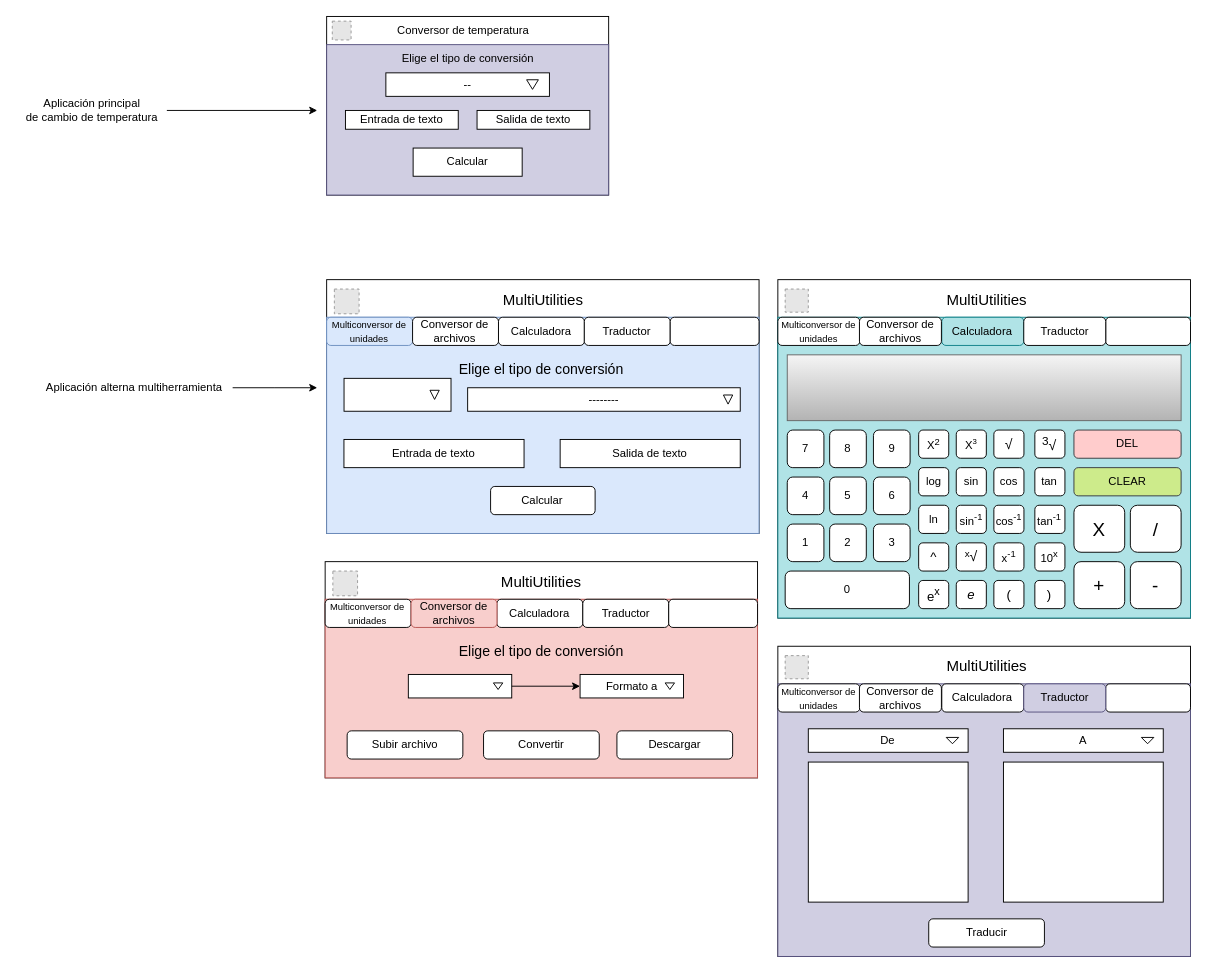
Some shapes in this 1207 by 973 pixel diagram are drawn without their labels. Grey dashed boxes stand in for pictures. The centre of each missing label's shape, as x and y in pixels:
"Formato de" goes at [459,686].
"Tipo de conversion" goes at [397,394].
